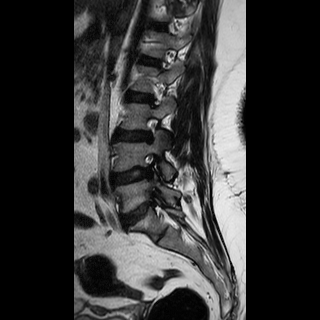RFS0: (141, 111, 163, 148)
RFS2: (136, 147, 160, 185)
